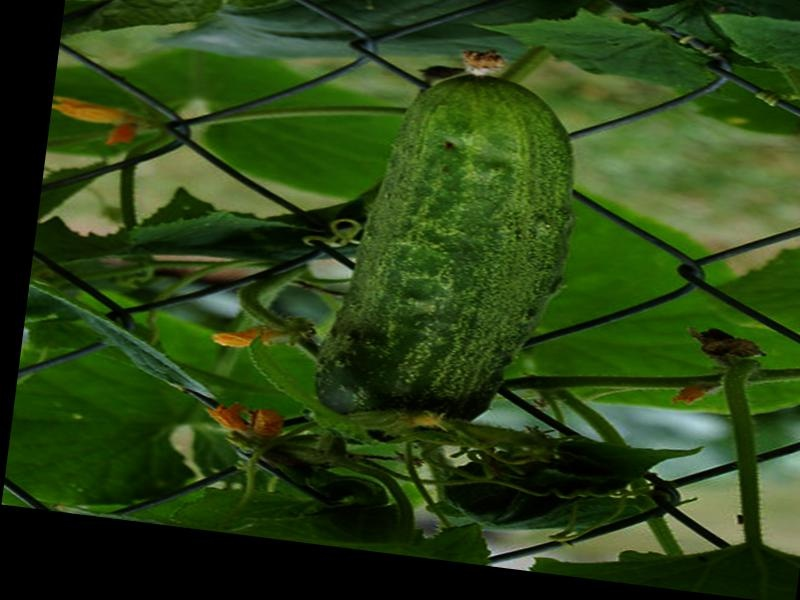Cucumber: (326, 74, 586, 457)
